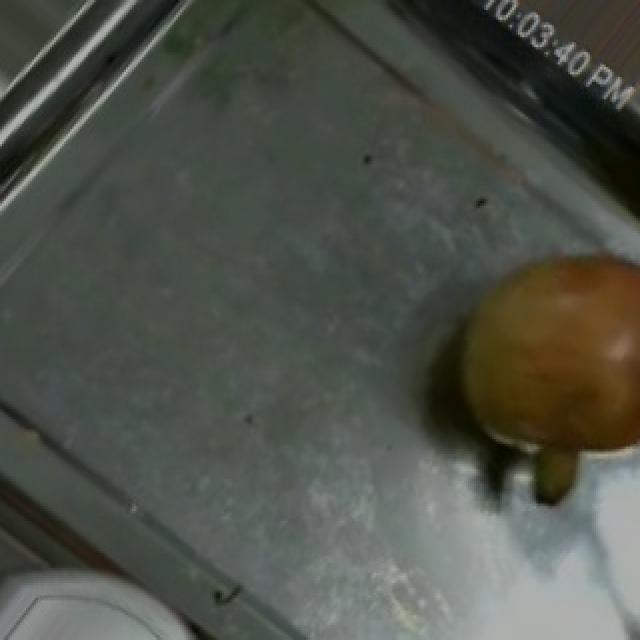fruit: (436, 243, 640, 516)
